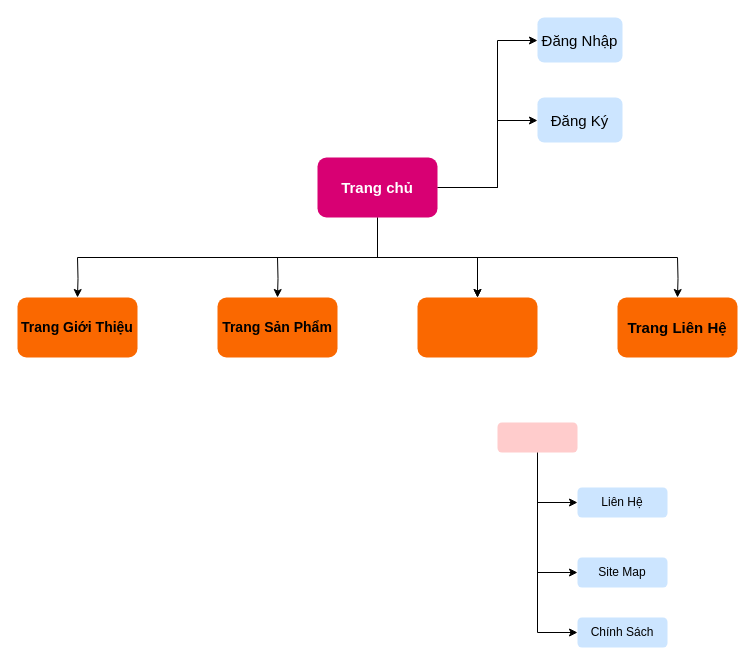
The diagram is 754 pixels wide and 664 high, and some of its shapes have lost their labels. The shapes that lost their labels are listed below. From the top down, each one's centre as x and y in pixels, then its label:
At point (477, 327): "Trang Tin Tức".
At point (537, 437): "Footer".
